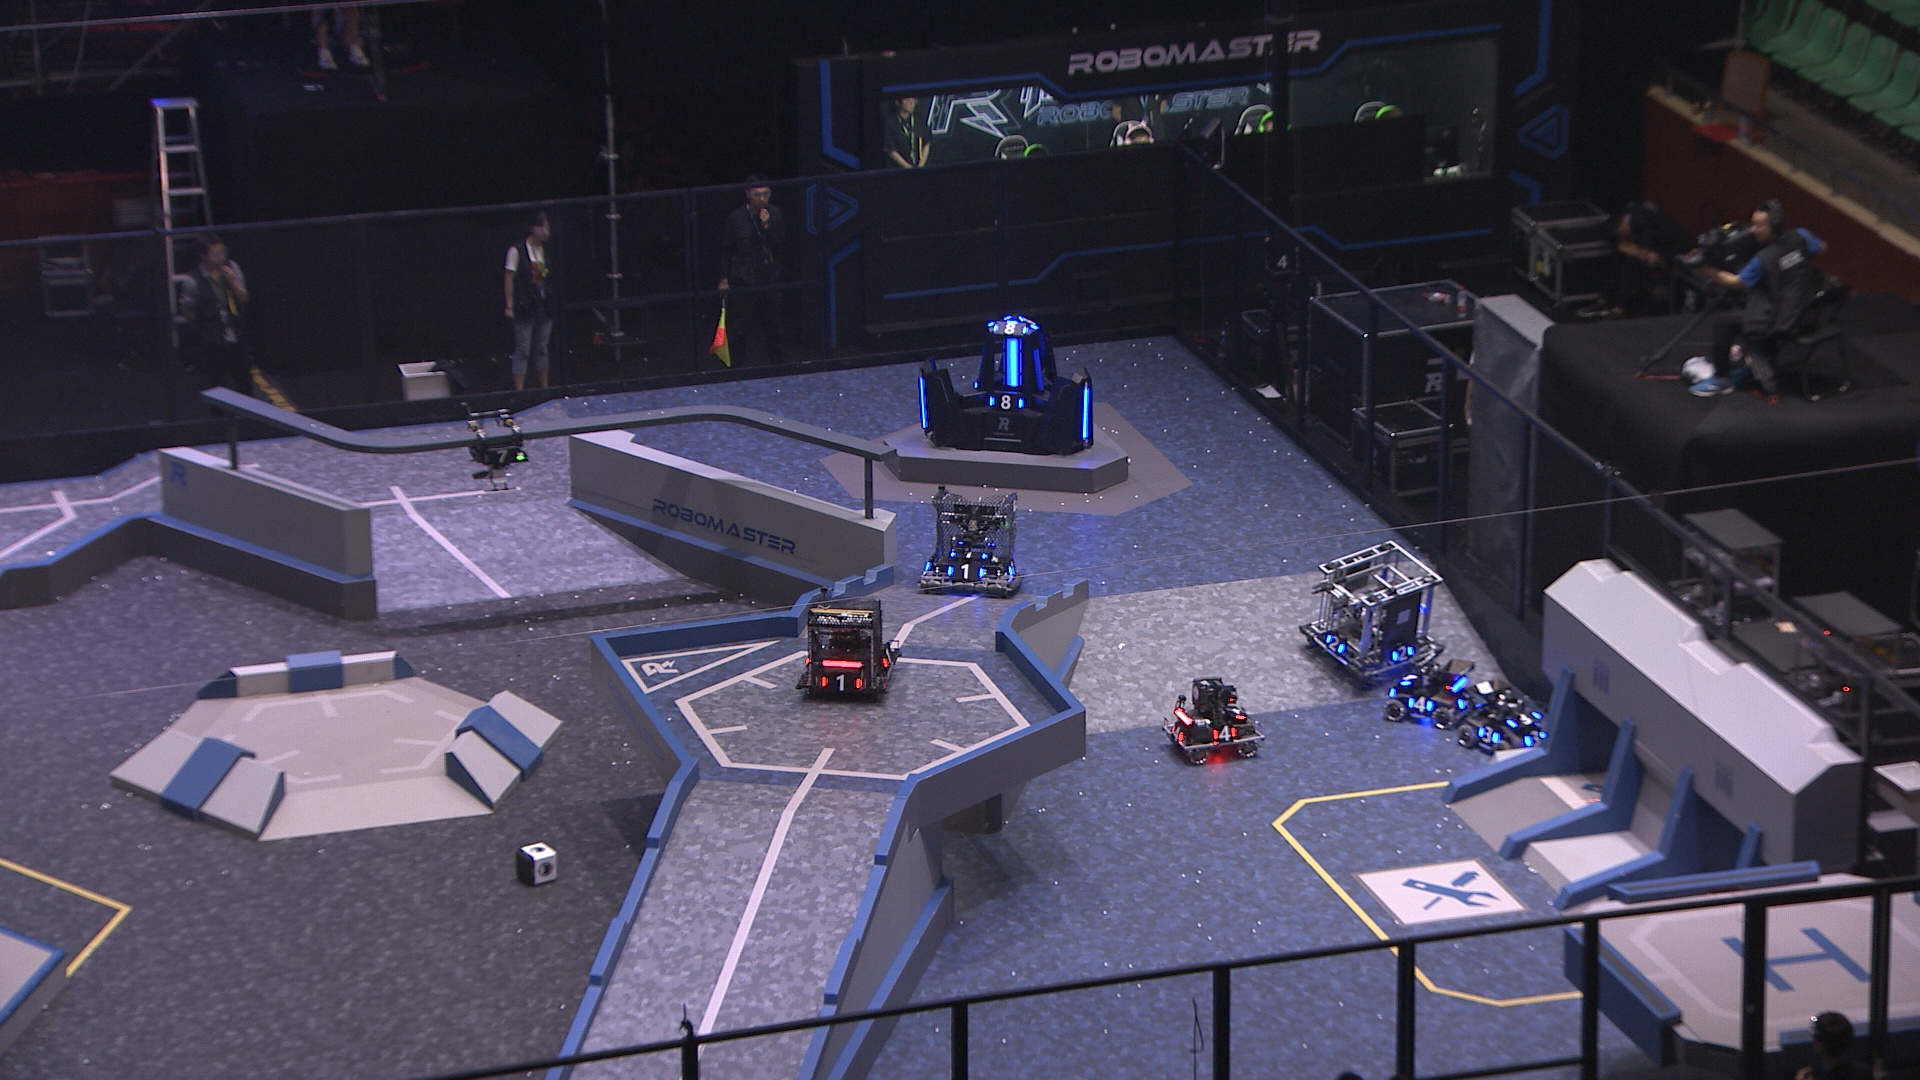armor: (1001, 338, 1025, 386), (913, 375, 930, 431), (945, 562, 986, 585), (1506, 708, 1548, 731), (818, 673, 862, 694), (1077, 384, 1092, 443), (992, 318, 1030, 338), (483, 447, 522, 465), (1029, 348, 1044, 392), (1476, 723, 1503, 746), (986, 396, 1026, 411), (1207, 723, 1238, 742), (1523, 728, 1551, 749), (1321, 633, 1346, 655), (1408, 698, 1437, 716), (1390, 642, 1414, 665), (1224, 703, 1247, 723), (880, 641, 895, 670), (1456, 688, 1476, 711), (1167, 723, 1187, 745), (948, 550, 988, 560), (1400, 670, 1422, 688), (1019, 313, 1036, 330), (1004, 560, 1021, 578)
base: (913, 313, 1096, 458)
car: (1299, 538, 1441, 675), (918, 480, 1033, 593), (793, 584, 902, 703), (1160, 673, 1267, 767), (1385, 659, 1495, 733), (1460, 680, 1557, 757)
watcher: (458, 398, 527, 495)
